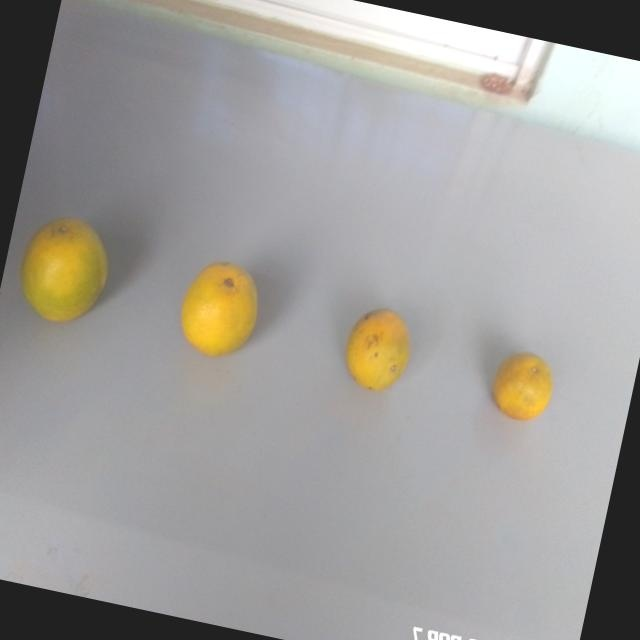agrume: (9, 196, 127, 340), (168, 242, 272, 367), (333, 294, 420, 406), (482, 335, 562, 433)
